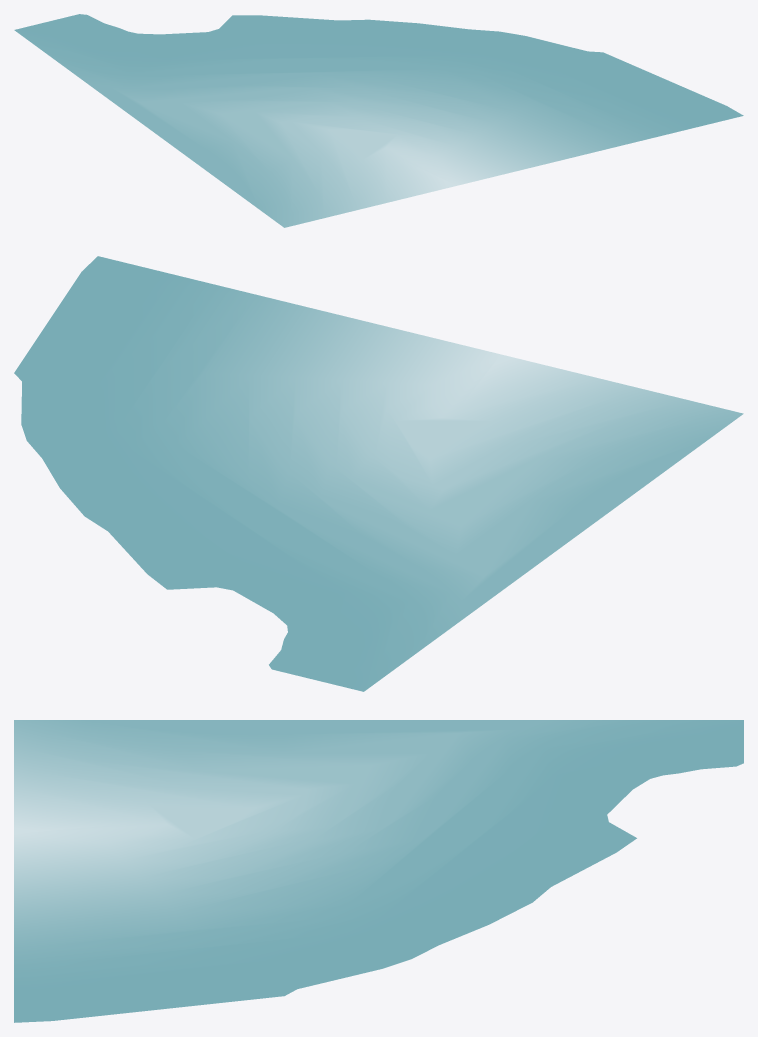
The picture shows the model from 3 angles, top to bottom: view 1: azimuth 30°, elevation 25°; view 2: azimuth 150°, elevation 25°; view 3: azimuth 270°, elevation 25°; orthographic projection. The views are drawn at different scales.
Parts seen in each view (by area): view 1: city; view 2: city; view 3: city.
Boxes of the visible parts, x1,y1,x2,y2 form: city: [14, 14, 743, 227]; city: [14, 256, 743, 691]; city: [14, 720, 743, 1022].
Size of the model in its own units: 491 by 0 by 500.
